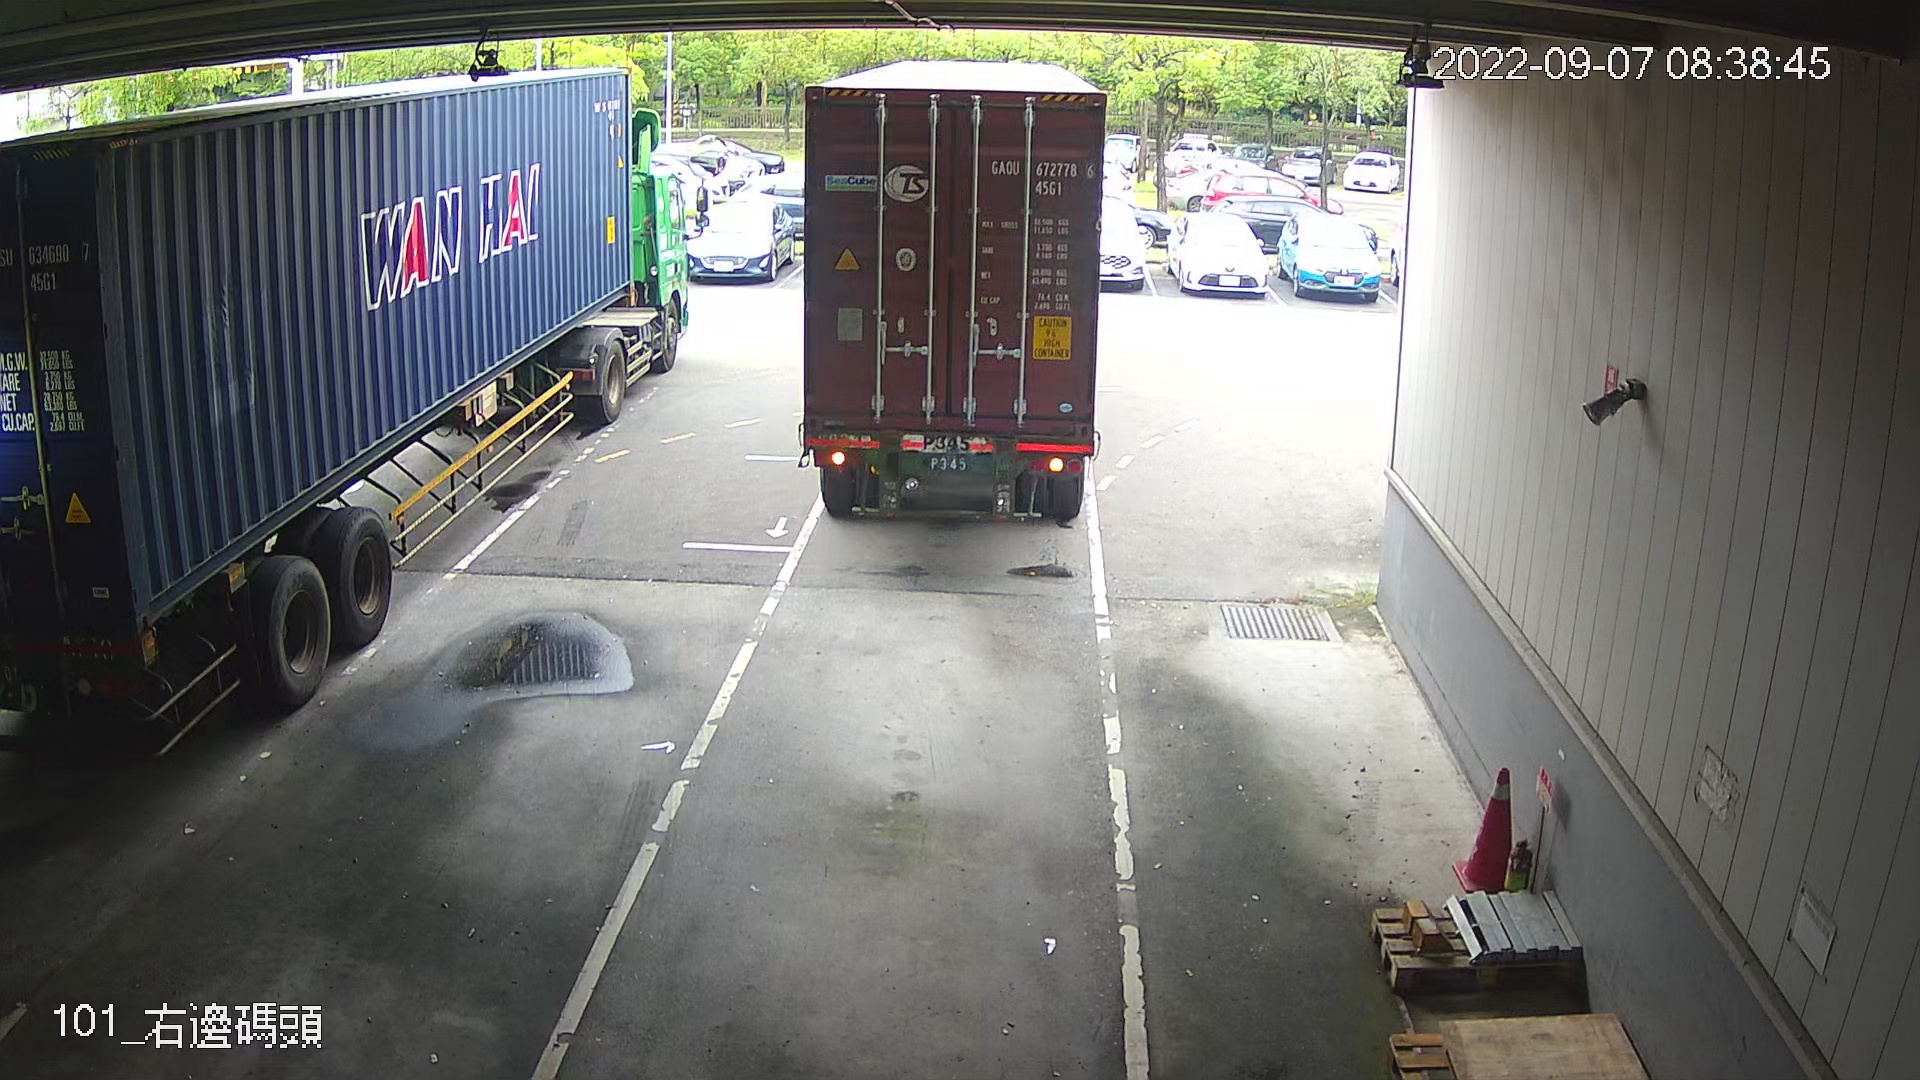container: (984, 152, 1097, 200)
